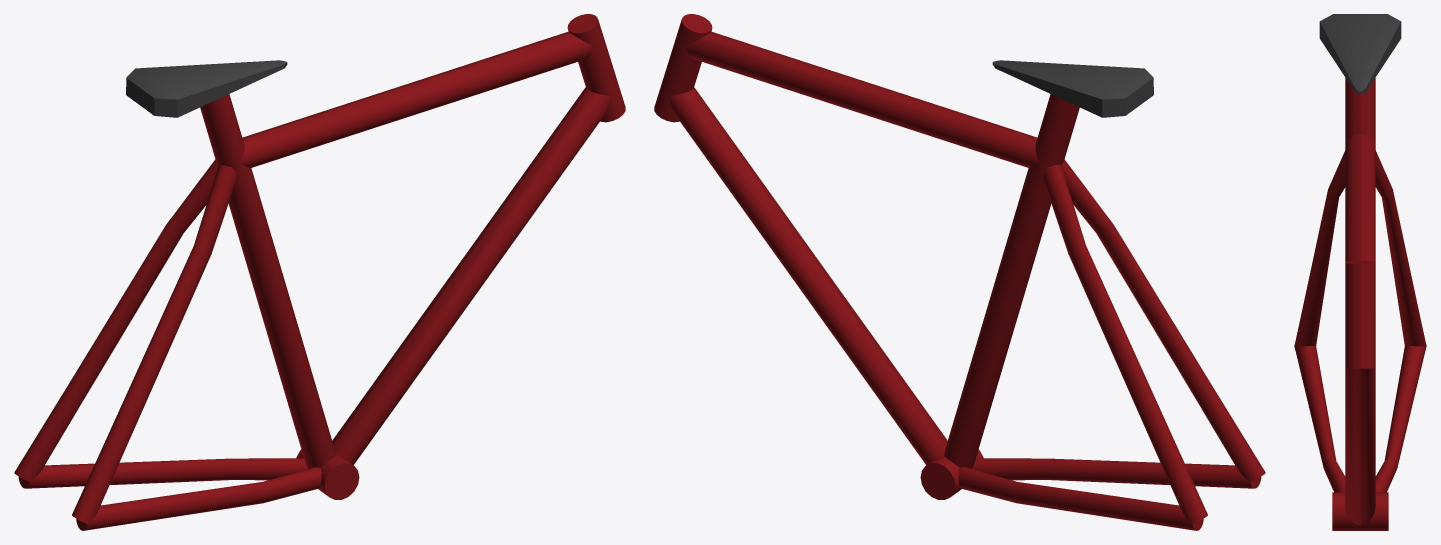
File: Frame.fbx
3 renders of one model, left to right at view 1: azimuth 30°, elevation 25°; view 2: azimuth 150°, elevation 25°; view 3: azimuth 270°, elevation 25°, orthographic. The views are drawn at different scales.
Parts seen in each view (by area): view 1: Frame; view 2: Frame; view 3: Frame.
Part boxes in pixels (left/top/right/bottom): Frame: left=14, top=14, right=625, bottom=530; Frame: left=654, top=14, right=1265, bottom=530; Frame: left=1294, top=14, right=1426, bottom=530.
Bounding box in the file's own units: 92.97 × 69.27 × 19.2.
